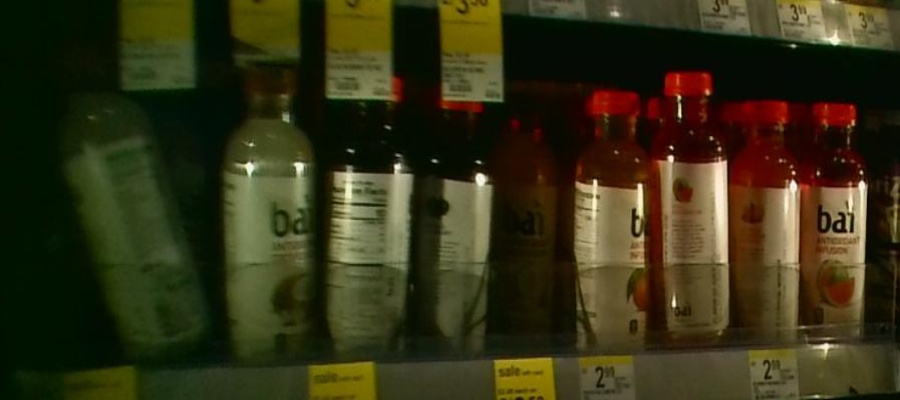bottle: (222, 53, 318, 366), (324, 60, 416, 362), (420, 62, 496, 359), (655, 64, 734, 349), (569, 88, 651, 350), (735, 90, 804, 347), (806, 83, 870, 343), (499, 101, 557, 331), (138, 230, 216, 360)
